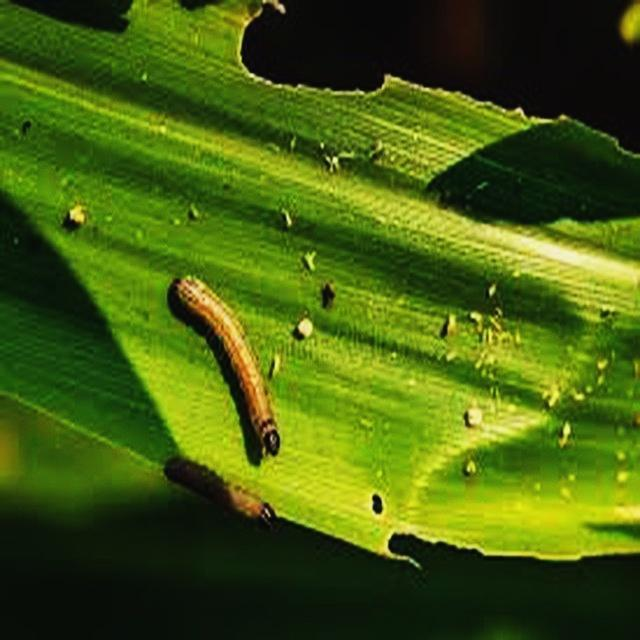gusano_cogollero: (168, 269, 286, 465)
